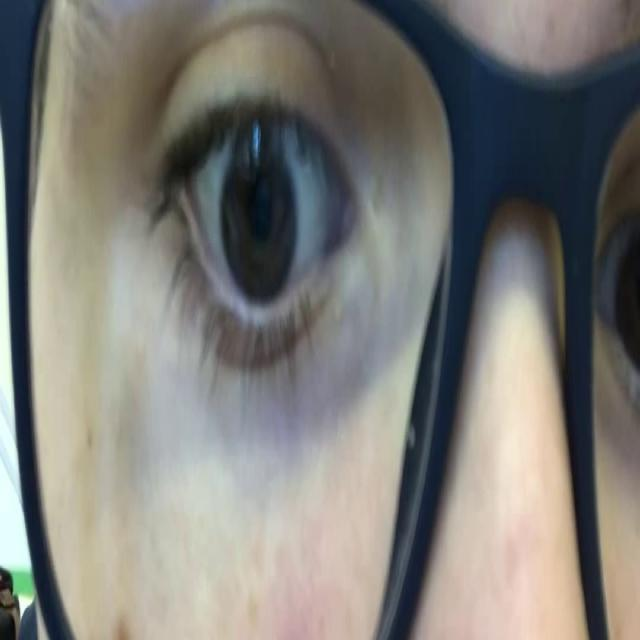eye: (140, 39, 380, 410)
gaze: (218, 124, 301, 313)
